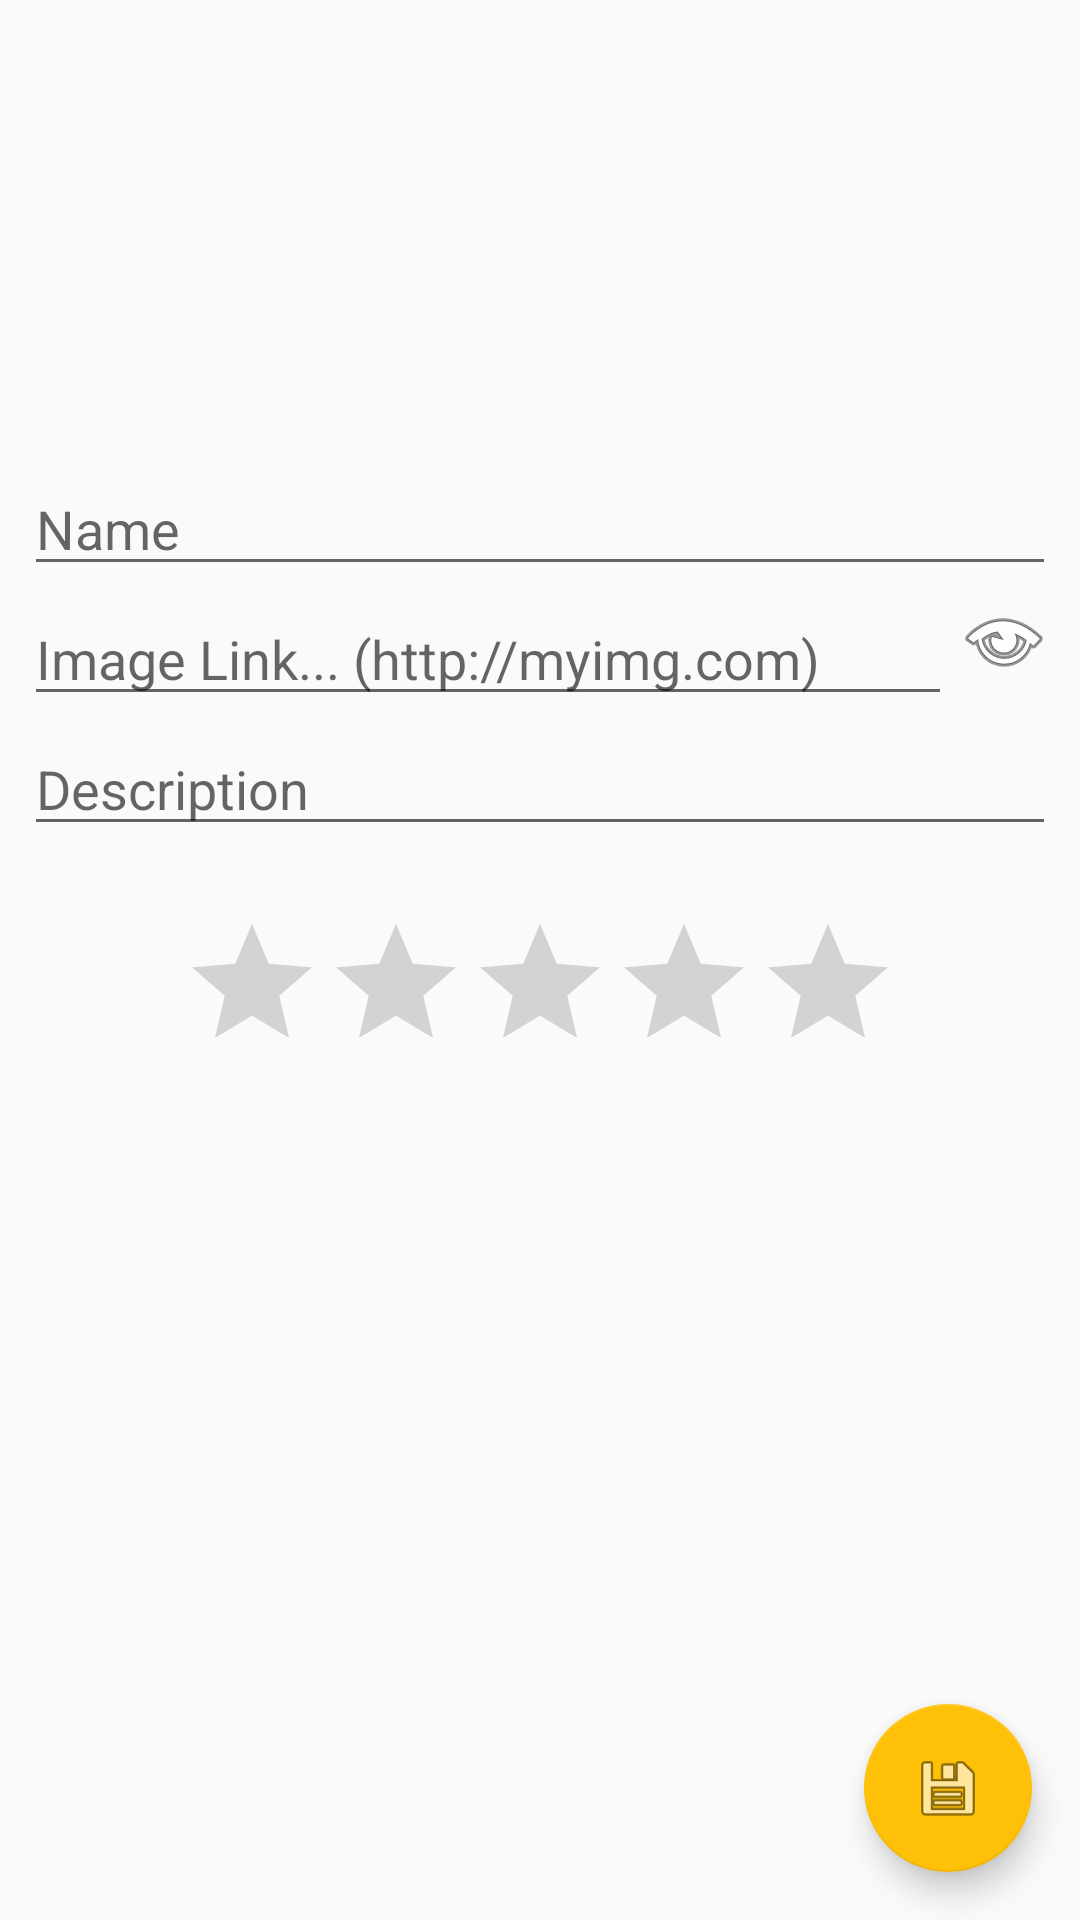

Icons on this 1080×1920 Android screen, each with the point to tap as (x,y):
save: (948,1788)
view: (1004,642)
